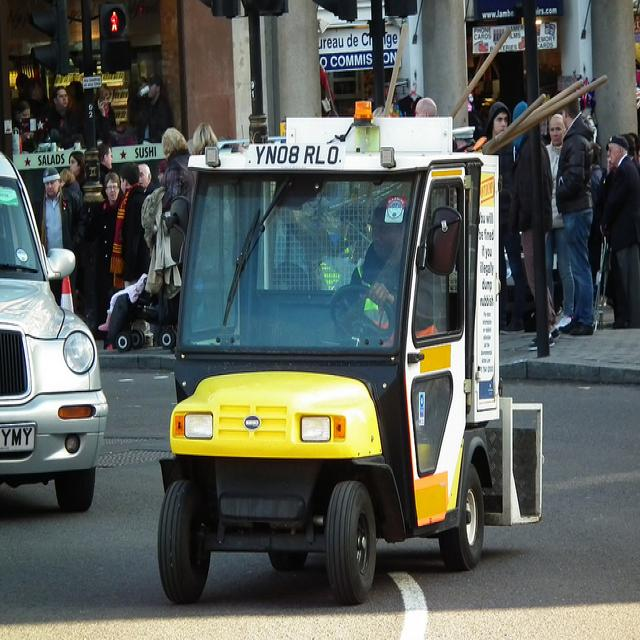Vehicle: (159, 98, 548, 600), (0, 150, 108, 513)
